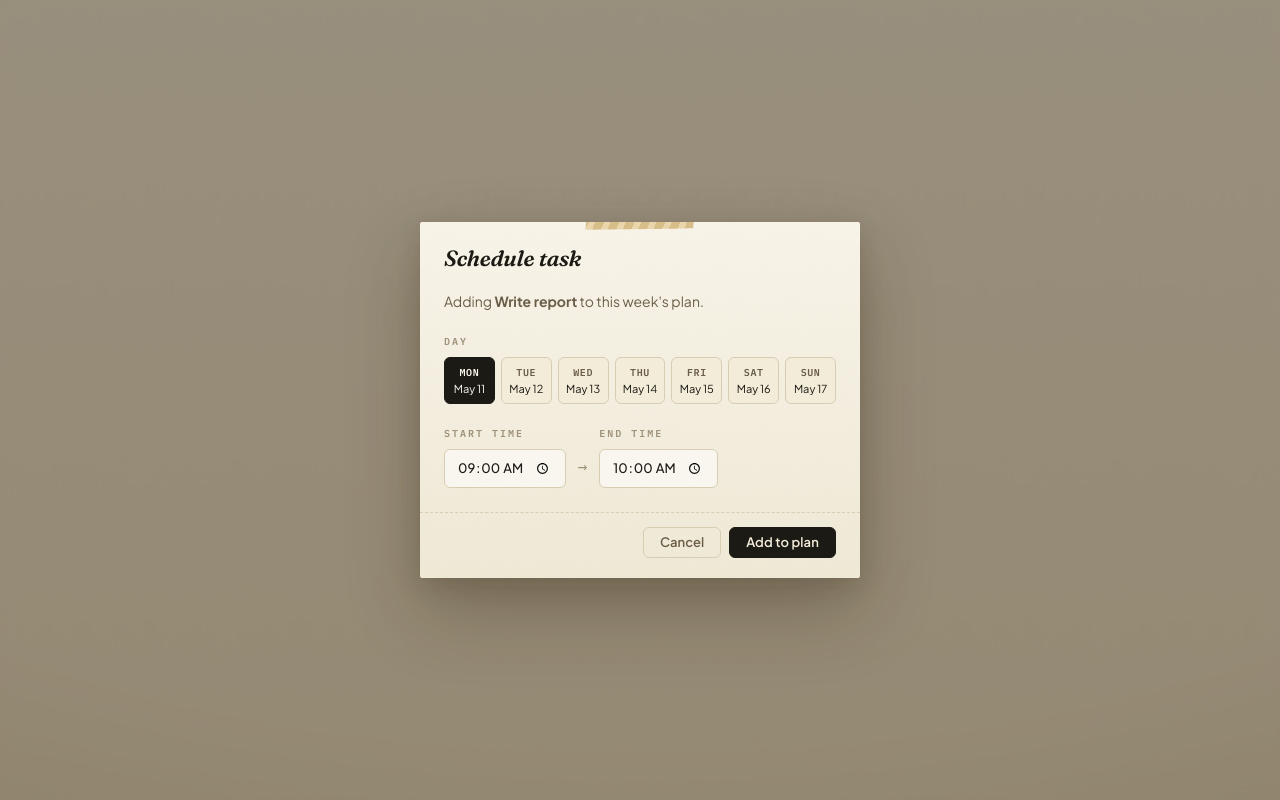
ScheduleTaskModal › auto-fills the start time backwards when the end is chosen first
Replace the text in the time field below "End time" with "15:00" at (659, 468), box x1=599 y1=449 x2=718 y2=488
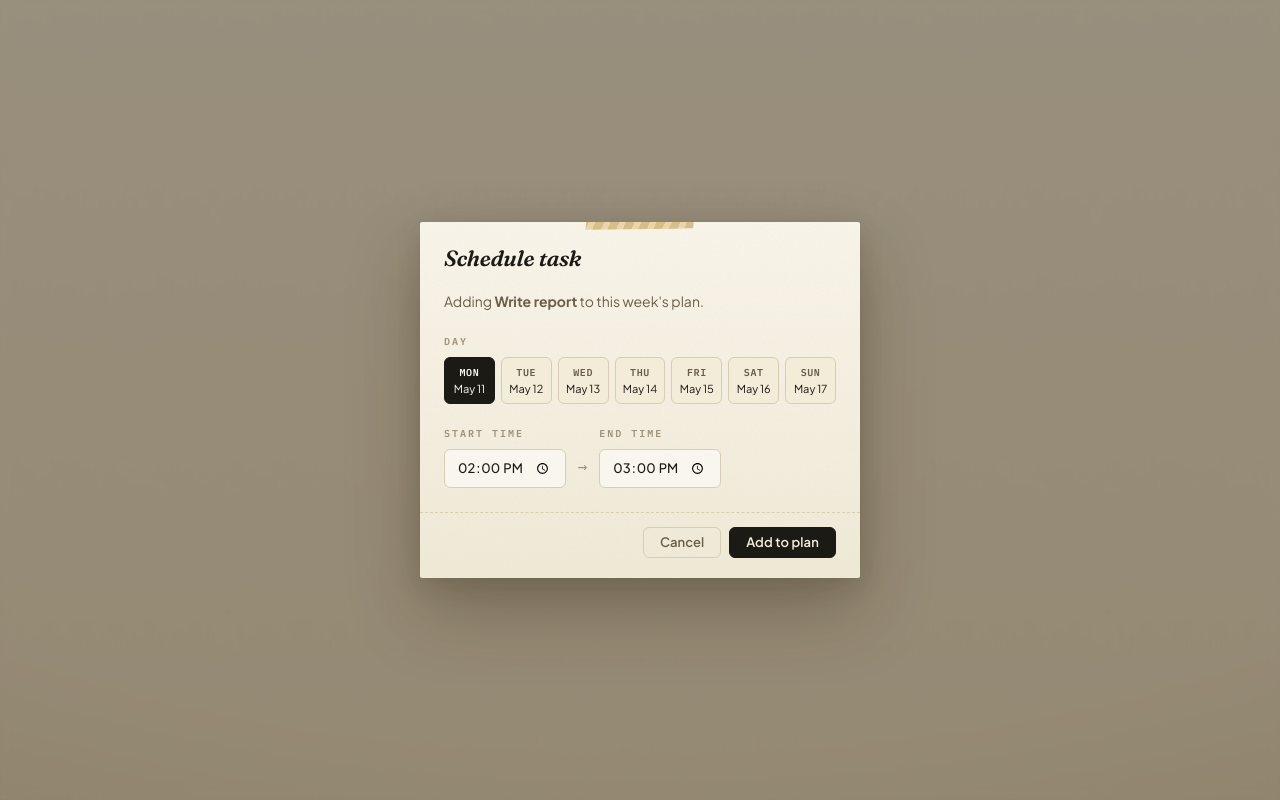
Result: the time field below "Start time" holds "14:00" at x1=444 y1=449 x2=566 y2=488
